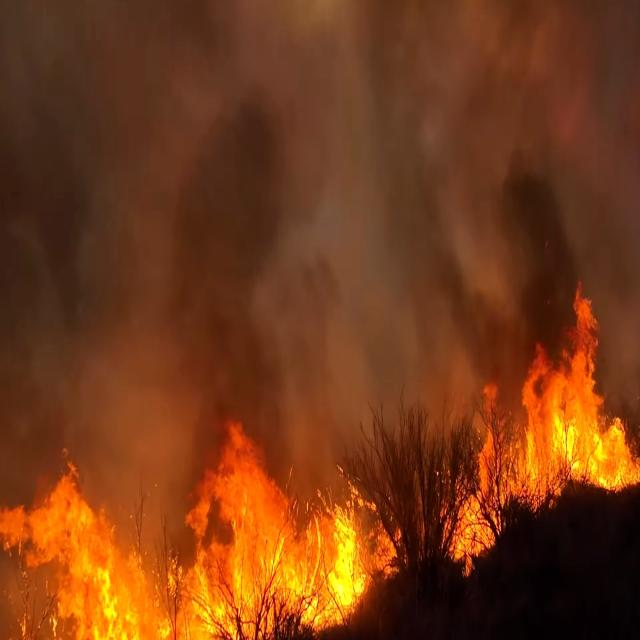fire: (160, 397, 383, 640), (452, 320, 630, 564), (0, 466, 160, 640)
smoke: (0, 0, 302, 383)
